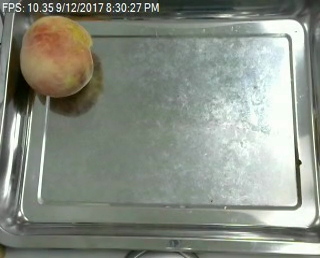Peach: (20, 13, 95, 98)
